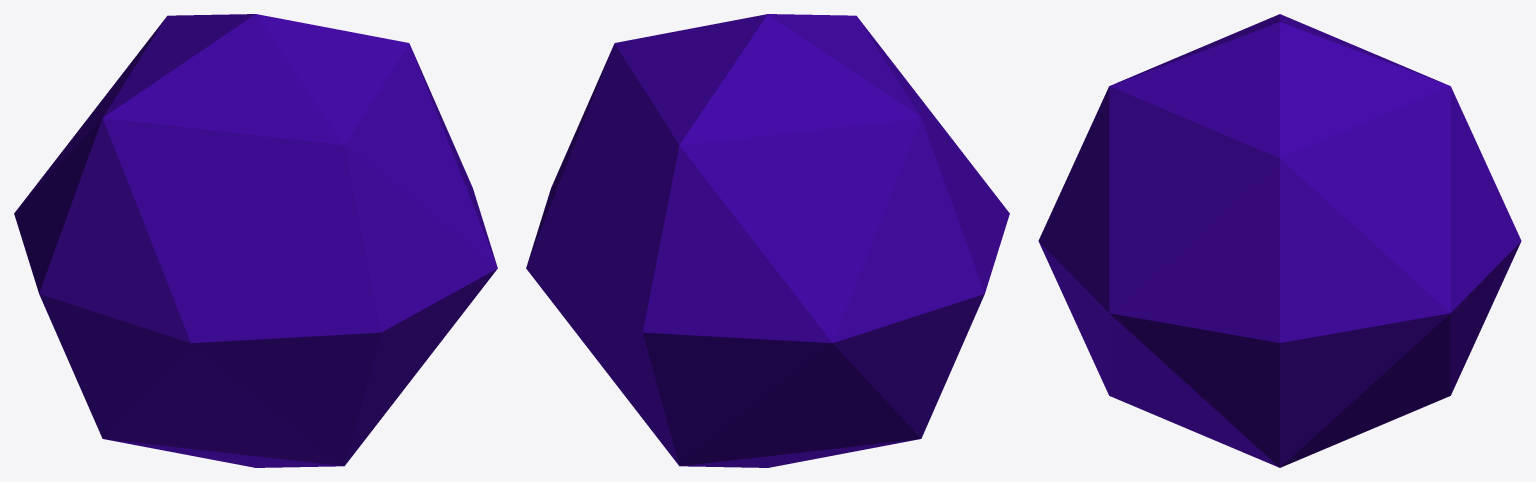
The model's file is hope.gltf.
3 views of the same model, side by side, from view 1: azimuth 30°, elevation 25°; view 2: azimuth 150°, elevation 25°; view 3: azimuth 270°, elevation 25° (orthographic). The views are drawn at different scales.
Visible parts, largest first — view 1: octahedron; view 2: octahedron; view 3: octahedron.
Boxes of the visible parts, box(x1,y1,x2,y2) form: octahedron: box(14, 14, 497, 467); octahedron: box(526, 14, 1009, 467); octahedron: box(1038, 14, 1521, 467).
Size of the model in its own units: 0.375 by 0.375 by 0.375.
Materials: 1 (1 with a texture image).
